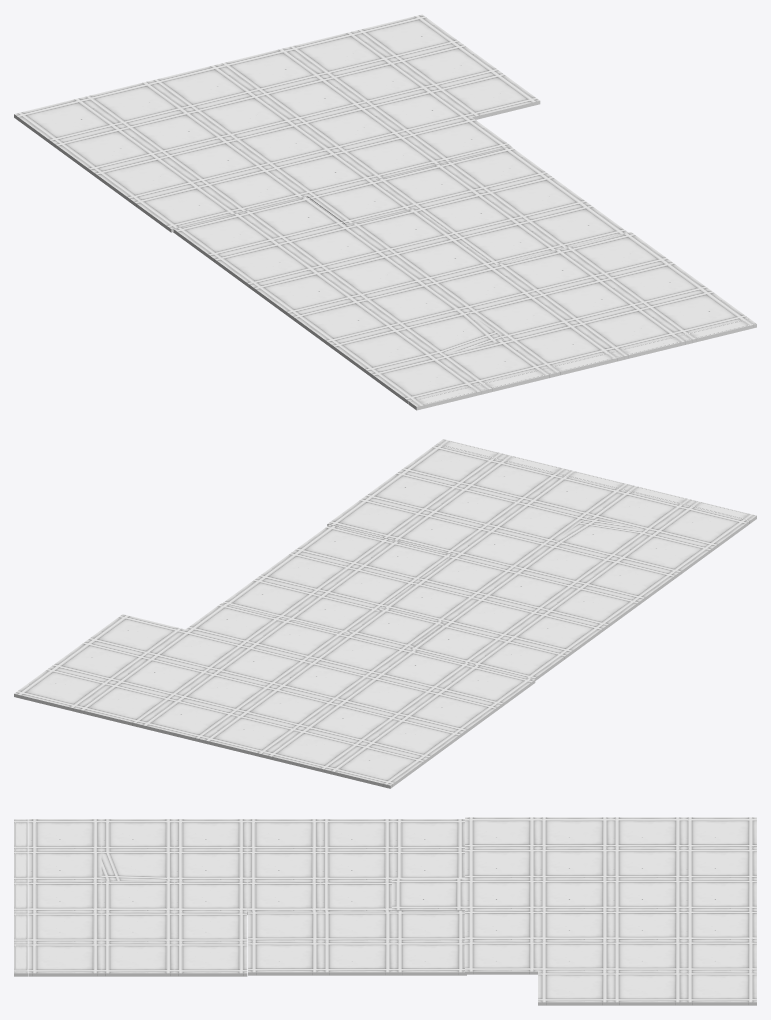
Rendered from CeilingBlock.fbx.
3 renders of one model, top to bottom at view 1: azimuth 30°, elevation 25°; view 2: azimuth 150°, elevation 25°; view 3: azimuth 270°, elevation 25°, orthographic. The views are drawn at different scales.
Visible parts, largest first — view 1: Plafond1, PFV_Ceiling__8_, PFV_Ceiling__18_, PFV_Ceiling__11_, PFV_Ceiling__23_, PFV_Ceiling__17_, PFV_Ceiling__29_, PFV_Ceiling, PFV_Ceiling__13_, PFV_Ceiling__14_, PFV_Ceiling__10_, PFV_Ceiling__16_ (+14 smaller); view 2: Plafond1, PFV_Ceiling__8_, PFV_Ceiling__29_, PFV_Ceiling__31_, PFV_Ceiling__32_, PFV_Ceiling__27_, PFV_Ceiling__30_, PFV_Ceiling__28_, PFV_Ceiling__11_, PFV_Ceiling__23_, PFV_Ceiling__17_, PFV_Ceiling (+14 smaller); view 3: Plafond1, PFV_Ceiling__8_, PFV_Ceiling__13_, PFV_Ceiling__30_, PFV_Ceiling__18_, PFV_Ceiling__24_, PFV_Ceiling__31_, PFV_Ceiling__25_, PFV_Ceiling, PFV_Ceiling__17_, PFV_Ceiling__11_, PFV_Ceiling__19_ (+14 smaller).
Boxes of the visible parts, x1,y1,x2,y2 form: Plafond1: (173,196,756,410); PFV_Ceiling__8_: (376,147,627,264); PFV_Ceiling__18_: (433,72,540,119); PFV_Ceiling__11_: (132,184,239,232); PFV_Ceiling__23_: (53,126,159,174); PFV_Ceiling__17_: (92,155,199,203); PFV_Ceiling__29_: (14,97,120,145); PFV_Ceiling: (307,179,414,225); PFV_Ceiling__13_: (404,117,511,163); PFV_Ceiling__14_: (336,134,443,179); PFV_Ceiling__10_: (200,167,307,212); PFV_Ceiling__16_: (161,138,267,183); Plafond1: (327,439,756,680); PFV_Ceiling__8_: (222,525,452,633); PFV_Ceiling__29_: (327,744,426,788); PFV_Ceiling__31_: (76,682,175,727); PFV_Ceiling__32_: (139,698,237,742); PFV_Ceiling__27_: (202,713,300,757); PFV_Ceiling__30_: (14,667,112,712); PFV_Ceiling__28_: (265,728,363,773); PFV_Ceiling__11_: (436,664,535,708); PFV_Ceiling__23_: (364,717,462,761); PFV_Ceiling__17_: (400,691,499,735); PFV_Ceiling: (347,607,445,648); Plafond1: (14,819,464,976); PFV_Ceiling__8_: (248,910,466,975); PFV_Ceiling__13_: (465,940,537,974); PFV_Ceiling__30_: (684,971,756,1005); PFV_Ceiling__18_: (538,971,610,1005); PFV_Ceiling__24_: (611,971,683,1005); PFV_Ceiling__31_: (684,940,756,971); PFV_Ceiling__25_: (611,940,683,971); PFV_Ceiling: (392,879,464,910); PFV_Ceiling__17_: (538,817,610,848); PFV_Ceiling__11_: (465,817,537,848); PFV_Ceiling__19_: (538,940,610,971).
Bounding box in the file's own units: 2400 × 24.3 × 4073.
